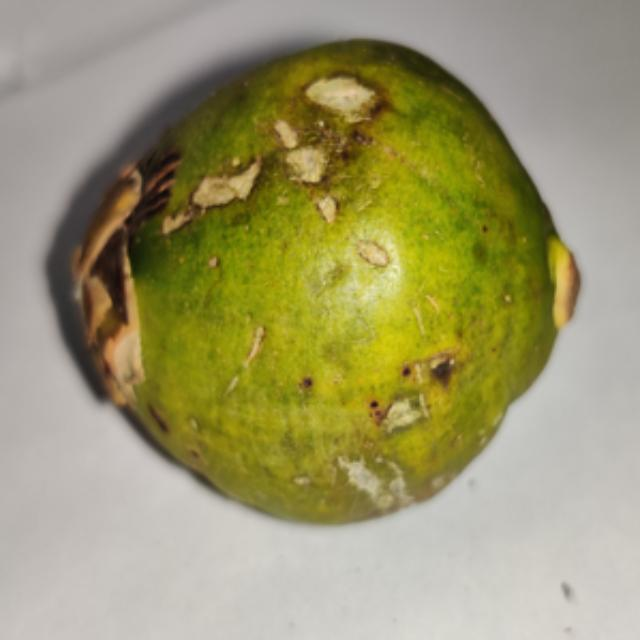good: (73, 41, 576, 522)
